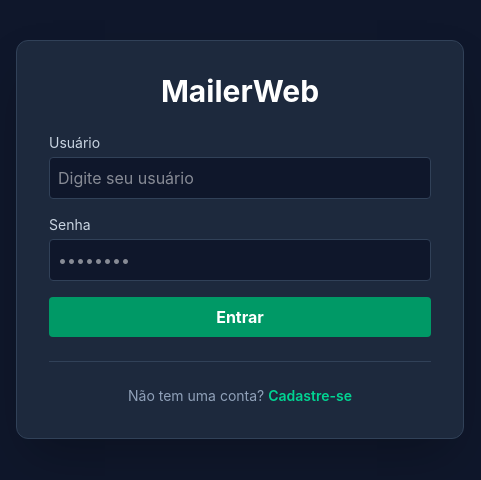
Test: Página de Login › deve exibir mensagens de erro ao tentar enviar o formulário vazio
The width and height of the screenshot is (481, 480).
Click the button "Entrar".
click(240, 316)  # box left=49, top=296, right=431, bottom=336
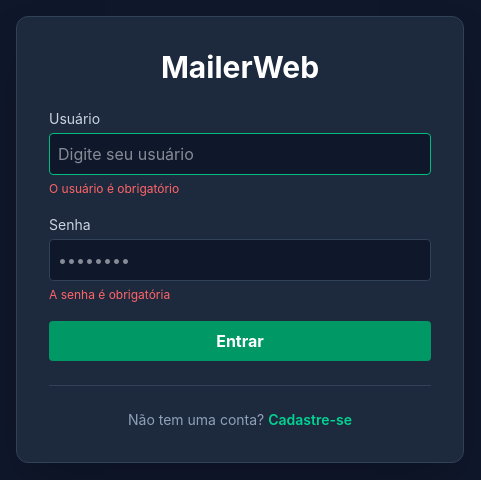
Expected: the text "O usuário é obrigatório" is shown, left=49, top=180, right=179, bottom=196
Expected: the text "A senha é obrigatória" is shown, left=49, top=286, right=170, bottom=302
